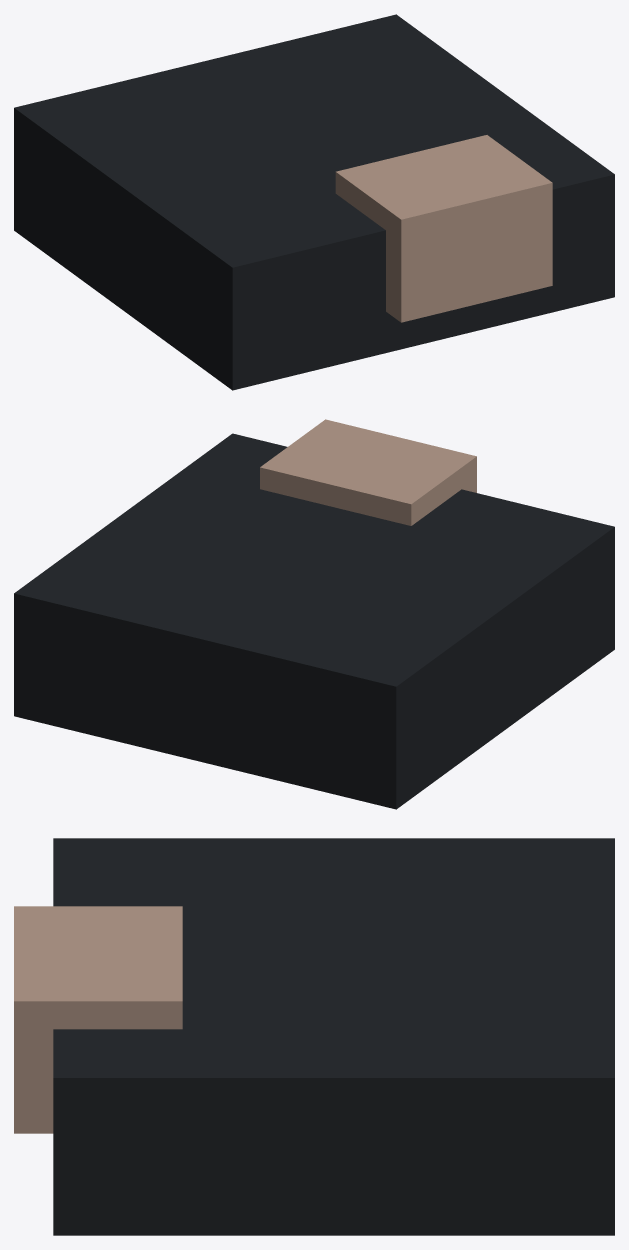
The model's file is inf_brute_foot.fbx.
3 renders of one model, top to bottom at view 1: azimuth 30°, elevation 25°; view 2: azimuth 150°, elevation 25°; view 3: azimuth 270°, elevation 25°, orthographic. The views are drawn at different scales.
Visible parts, largest first — view 1: inf_brute_foot; view 2: inf_brute_foot; view 3: inf_brute_foot.
Part boxes in pixels (left/top/right/bottom): inf_brute_foot: left=14, top=14, right=614, bottom=390; inf_brute_foot: left=14, top=419, right=614, bottom=809; inf_brute_foot: left=14, top=838, right=614, bottom=1235.
Bounding box in the file's own units: 101 × 36.5 × 107.
